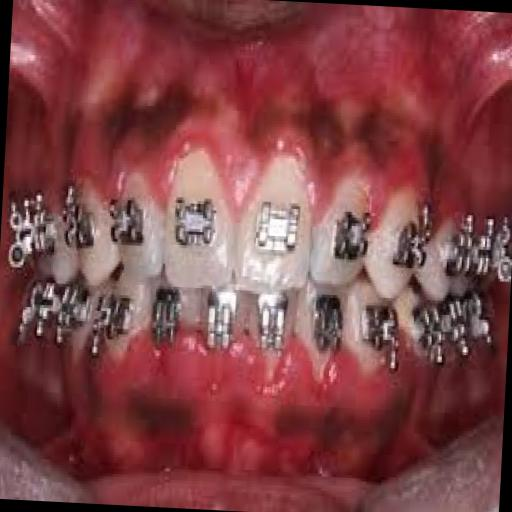correct_brace: (310, 171, 378, 293), (104, 164, 166, 286), (247, 196, 308, 262), (320, 204, 376, 270), (171, 190, 220, 254), (105, 196, 149, 256)
